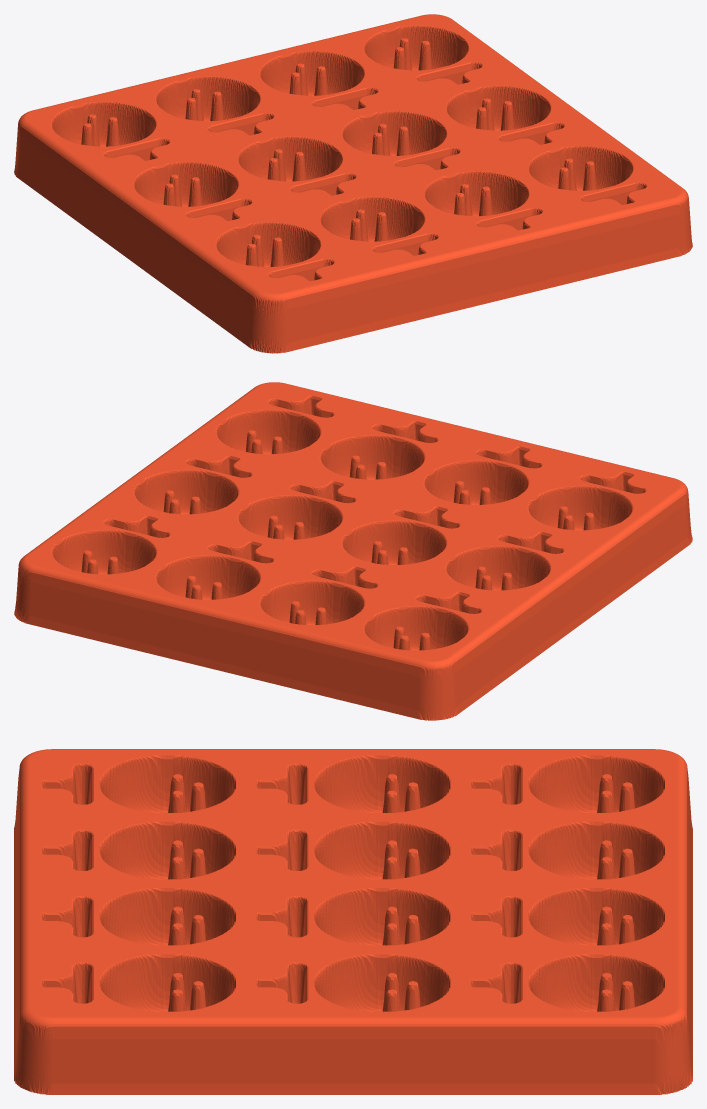
Rendered from mold.glb.
3 renders of one model, top to bottom at view 1: azimuth 30°, elevation 25°; view 2: azimuth 150°, elevation 25°; view 3: azimuth 270°, elevation 25°, orthographic. The views are drawn at different scales.
Parts seen in each view (by area): view 1: geometry_0; view 2: geometry_0; view 3: geometry_0.
Part boxes in pixels (x1,y1,x2,y2): geometry_0: (14, 14, 692, 353); geometry_0: (14, 382, 692, 720); geometry_0: (14, 749, 692, 1094).
Bounding box in the file's own units: 0.1559 × 0.0185 × 0.1598.
